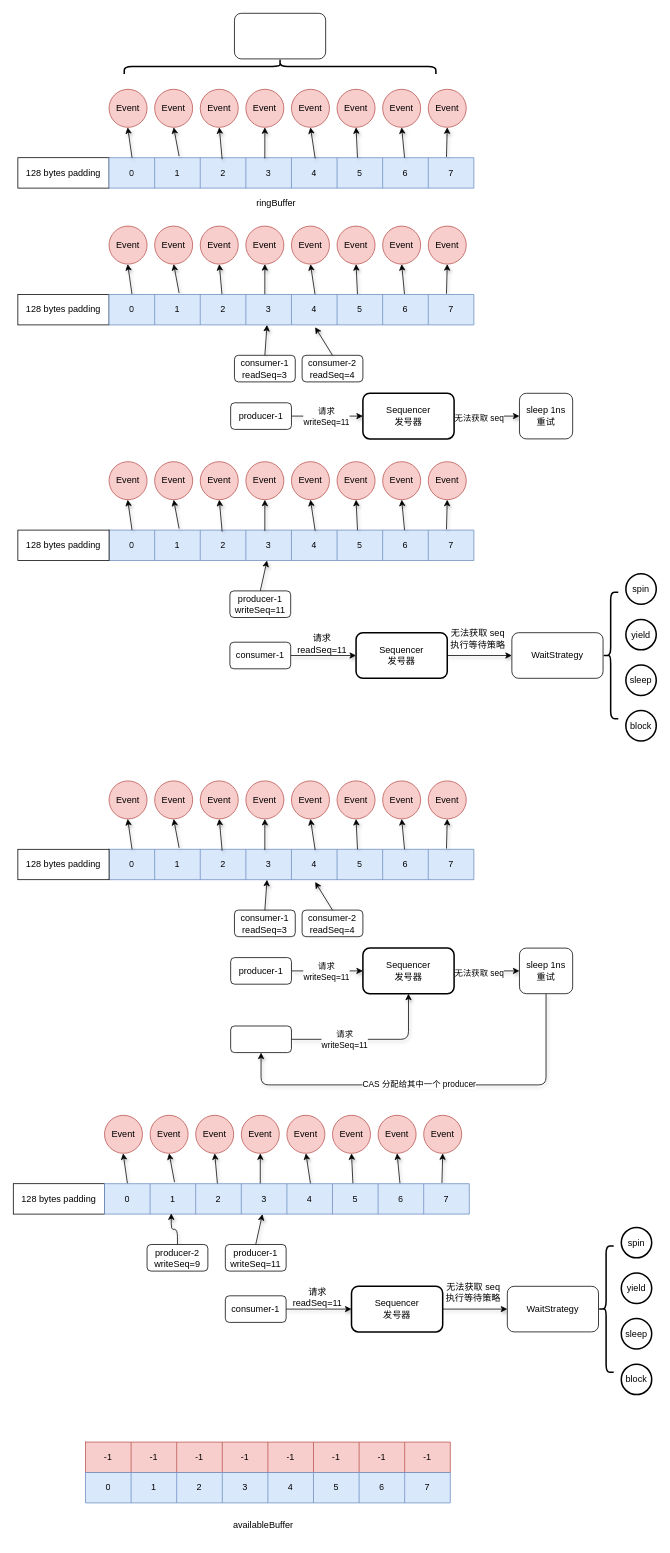
Image size: 670x1553. Some labels were removed from this diagram. The shapes that lost their labels are listed below. From the top down, each one's centre as x and y in pixels, then its label:
pixel 280 36: EventFactory
pixel 260 1039: producer-2
